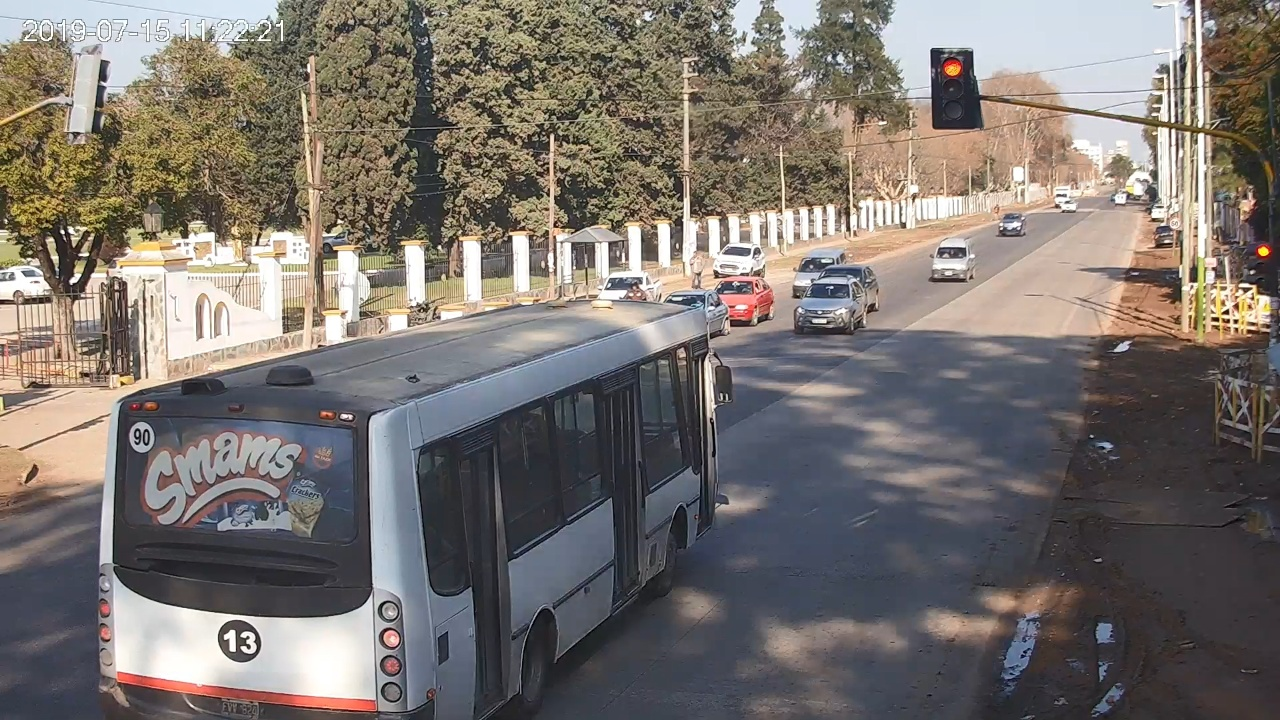bus: (97, 299, 732, 720)
front car: (794, 276, 867, 335), (930, 237, 976, 283)
traffic light: (938, 52, 967, 121), (1257, 243, 1272, 288)
